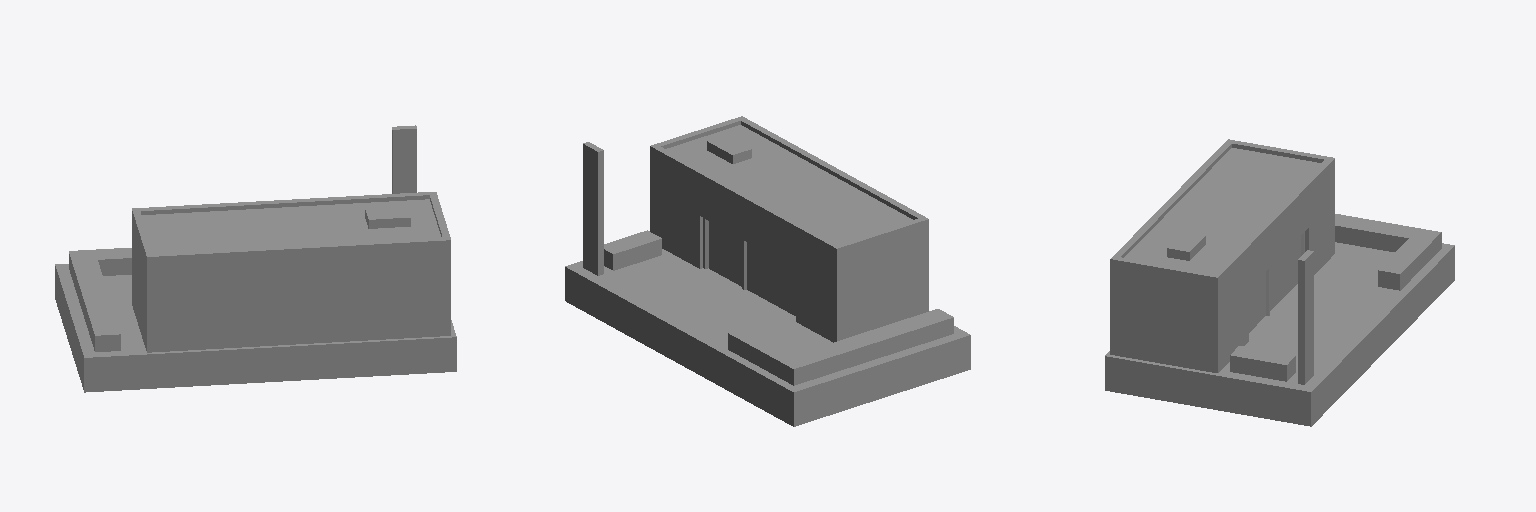
File: BuildingOBJ12.obj
3 views of the same model, side by side, from view 1: azimuth 30°, elevation 25°; view 2: azimuth 150°, elevation 25°; view 3: azimuth 270°, elevation 25° (orthographic).
Visible parts, largest first — view 1: cabin_004.000_Untitled.015; view 2: cabin_004.000_Untitled.015; view 3: cabin_004.000_Untitled.015.
Boxes of the visible parts, box(x1,y1,x2,y2) form: cabin_004.000_Untitled.015: box(55, 125, 456, 392); cabin_004.000_Untitled.015: box(565, 116, 970, 426); cabin_004.000_Untitled.015: box(1105, 139, 1454, 426).
Size of the model in its own units: 6.35 by 2.57 by 5.14.